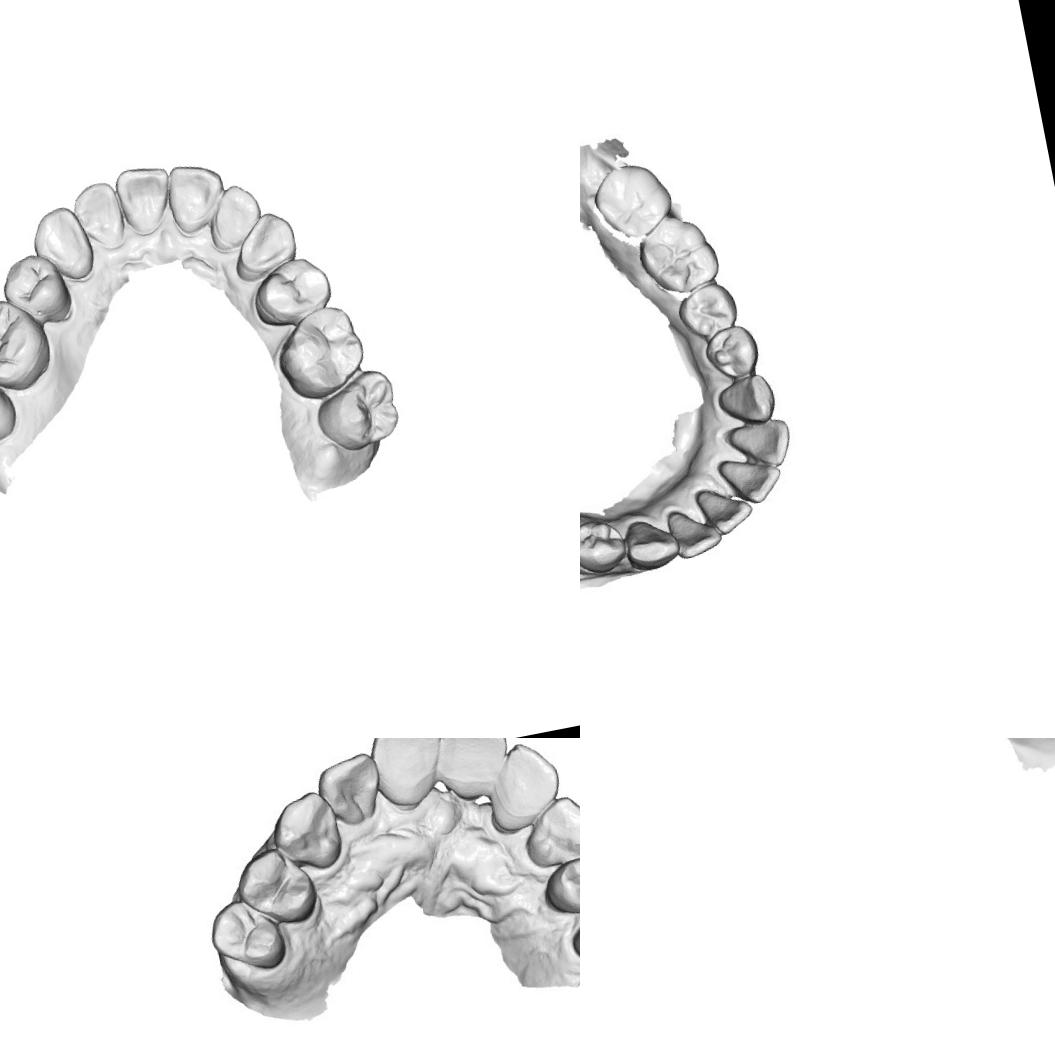canine: (25, 200, 100, 288), (270, 785, 344, 867), (227, 206, 302, 280), (515, 787, 580, 871), (619, 511, 683, 574), (711, 366, 776, 428)
incisor: (480, 738, 568, 830), (362, 738, 450, 813), (309, 748, 388, 831), (427, 738, 516, 806), (110, 160, 176, 242), (162, 155, 230, 234), (718, 412, 797, 474), (67, 175, 128, 255), (714, 447, 784, 510), (206, 179, 266, 250), (692, 478, 757, 540), (664, 500, 722, 562)
molar: (267, 298, 372, 407), (308, 363, 406, 458), (587, 154, 677, 245), (633, 214, 721, 300), (0, 290, 58, 400), (0, 355, 20, 453)
premolar: (247, 252, 336, 333), (205, 893, 285, 972), (0, 246, 76, 329), (239, 847, 321, 922), (672, 275, 741, 342), (699, 320, 764, 384), (580, 514, 631, 578), (549, 847, 580, 917)
